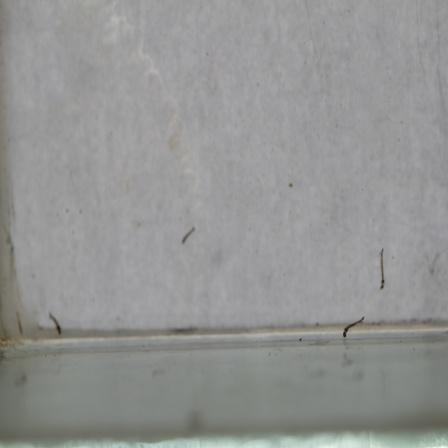Jentik-Nyamuk: (340, 314, 369, 340), (48, 309, 63, 337), (178, 224, 197, 246)
